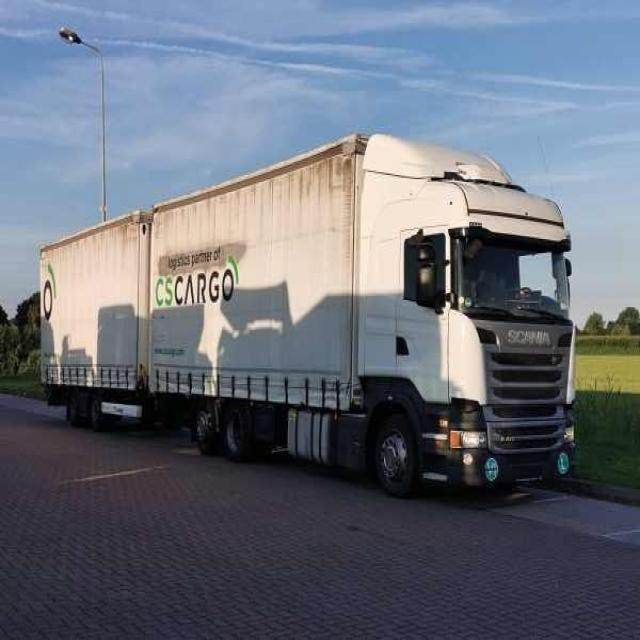Truck: (23, 186, 570, 422)
